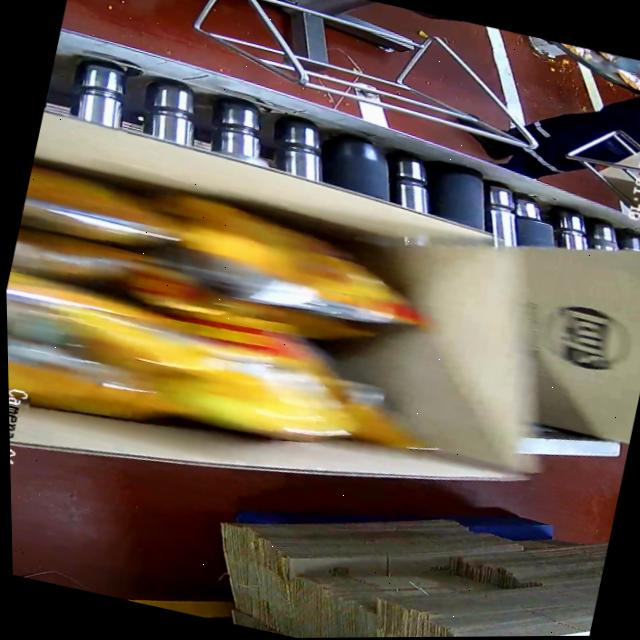FRENCH_CHEESE: (3, 148, 417, 462)
